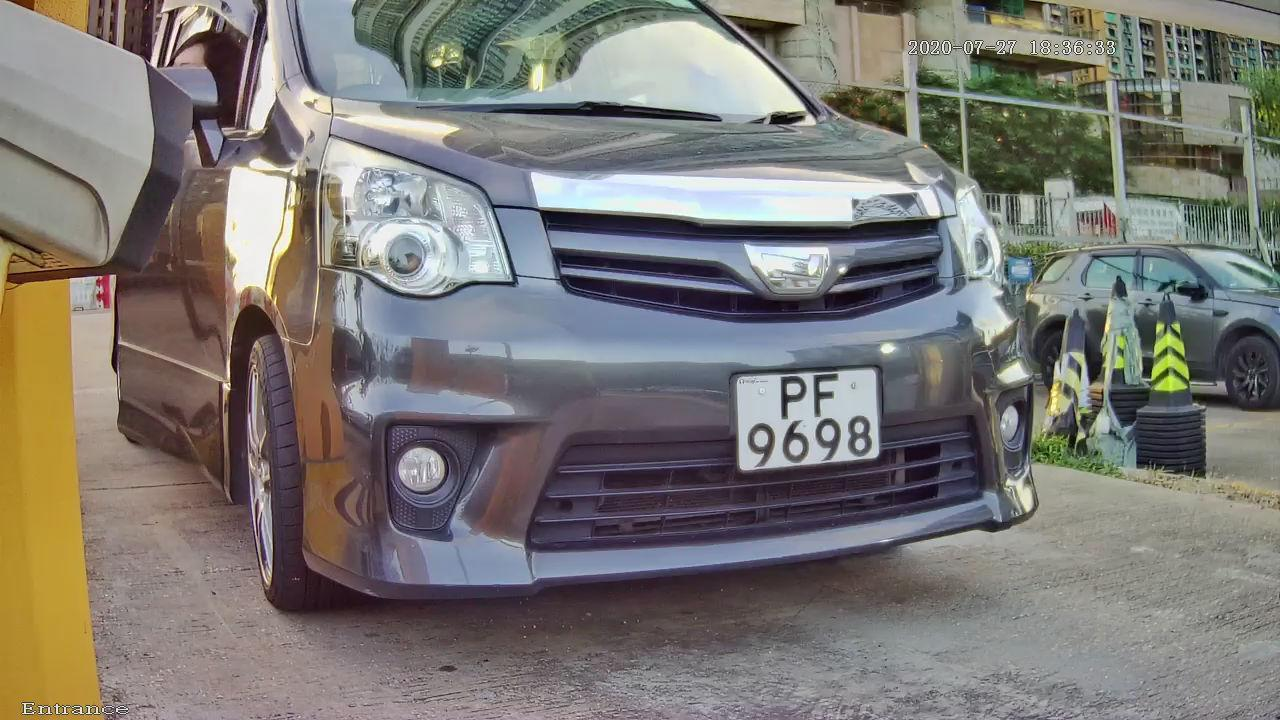privatecar: (92, 23, 1138, 624)
